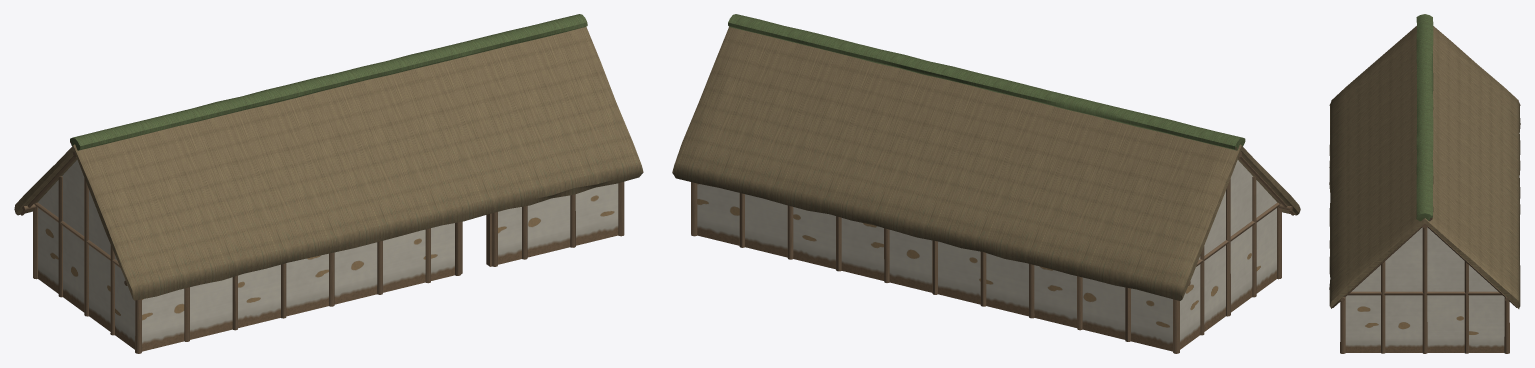
Rendered from house_004_limewash.glb.
3 views of the same model, side by side, from view 1: azimuth 30°, elevation 25°; view 2: azimuth 150°, elevation 25°; view 3: azimuth 270°, elevation 25° (orthographic). The views are drawn at different scales.
Parts seen in each view (by area): view 1: Roof, Wall, Frame; view 2: Roof, Wall, Frame; view 3: Roof, Wall, Frame.
Part boxes in pixels (<box>): Roof: <box>14,14,643,300</box>; Wall: <box>38,159,618,351</box>; Frame: <box>20,151,624,353</box>; Roof: <box>672,14,1300,300</box>; Wall: <box>697,160,1276,351</box>; Frame: <box>691,151,1294,353</box>; Roof: <box>1329,14,1520,308</box>; Wall: <box>1345,227,1504,352</box>; Frame: <box>1333,223,1516,353</box>.
Size of the model in its own units: 15.9 by 5.35 by 6.4.
Materials: 4 (3 with a texture image).
